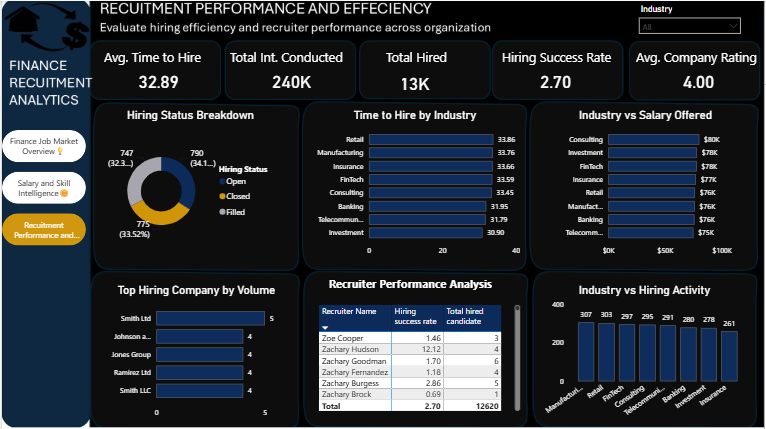

Layout of this report page (visuals, bound fields, positions):
{"tool":"powerbi","page":{"name":"Recuitment Performance and Effeciency🔎","canvas":[1280,720],"ordinal":2},"visuals":[{"type":"pageNavigator","box":[0,216.7,141.1,196.5],"z":0},{"type":"donutChart","title":"Hiring Status Breakdown","fields":{"Y":["All Measures.Total Job Postings"],"Category":["Finance Dataset.Hiring Status"]},"box":[166.3,179.7,300.7,257],"z":1000},{"type":"clusteredBarChart","title":"Time to Hire by Industry","fields":{"Y":["Avg(Finance Dataset.Time to Hire)"],"Category":["Finance Dataset.Industry"]},"box":[512.3,179.7,362.8,257],"z":2000},{"type":"clusteredBarChart","title":"Industry vs Salary Offered","fields":{"Category":["Finance Dataset.Industry"],"Y":["Finance Dataset.salary midpoint"]},"box":[930.6,179.7,300.7,257],"z":3000},{"type":"pivotTable","fields":{"Rows":["Finance Dataset.Recruiter Name"],"Values":["All Measures.Hiring success rate","All Measures.Total hired candidate"]},"box":[527.5,505.6,347.7,188.1],"z":4000},{"type":"clusteredBarChart","title":"Top Hiring Company by Volume","fields":{"Y":["All Measures.Total Job Postings"],"Category":["Finance Dataset.Company Name"]},"box":[166.3,473.7,320.8,235.2],"z":5000},{"type":"clusteredColumnChart","title":"Industry vs Hiring Activity","fields":{"Category":["Finance Dataset.Industry"],"Y":["All Measures.Total Job Postings"]},"box":[903.7,473.7,351.1,235.2],"z":6000},{"type":"textbox","box":[166.3,73.9,194.9,45.4],"z":7000},{"type":"textbox","box":[378,73.9,206.6,45.4],"z":8000},{"type":"textbox","box":[640,73.9,139.4,45.4],"z":9000},{"type":"textbox","box":[834.9,73.9,194.9,45.4],"z":10000},{"type":"textbox","box":[1059.9,73.9,220.1,45.4],"z":11000},{"type":"card","fields":{"Values":["All Measures.Avg. Time to hire"]},"box":[188.3,111.7,150,45],"z":12000},{"type":"card","fields":{"Values":["All Measures.Total interviews conducted"]},"box":[411.7,111.7,150,45],"z":13000},{"type":"card","fields":{"Values":["All Measures.Total hired candidate"]},"box":[618.3,118.3,150,38.3],"z":14000},{"type":"card","fields":{"Values":["All Measures.Hiring success rate"]},"box":[855,111.7,150,45],"z":15000},{"type":"card","fields":{"Values":["All Measures.Avg. Company rating"]},"box":[1101.7,111.7,136.7,45],"z":16000},{"type":"textbox","box":[545,456.7,310,48.3],"z":17000},{"type":"slicer","fields":{"Values":["Finance Dataset.Industry"]},"box":[1059.9,0,191.5,60.5],"z":18000}]}

Visuals, with their boxes in screenshot pixels (x1, y1, x2, y2), scaled from the page's 1280x720 canvas onto the 766x429 screenshot:
pageNavigator: [0, 129, 84, 246]
"Hiring Status Breakdown" donutChart: [100, 107, 279, 260]
"Time to Hire by Industry" clusteredBarChart: [307, 107, 524, 260]
"Industry vs Salary Offered" clusteredBarChart: [557, 107, 737, 260]
pivotTable - Finance Dataset.Recruiter Name x All Measures.Hiring success rate: [316, 301, 524, 413]
"Top Hiring Company by Volume" clusteredBarChart: [100, 282, 291, 422]
"Industry vs Hiring Activity" clusteredColumnChart: [541, 282, 751, 422]
textbox: [100, 44, 216, 71]
textbox: [226, 44, 350, 71]
textbox: [383, 44, 466, 71]
textbox: [500, 44, 616, 71]
textbox: [634, 44, 765, 71]
card - All Measures.Avg. Time to hire: [113, 67, 202, 93]
card - All Measures.Total interviews conducted: [246, 67, 336, 93]
card - All Measures.Total hired candidate: [370, 70, 460, 93]
card - All Measures.Hiring success rate: [512, 67, 601, 93]
card - All Measures.Avg. Company rating: [659, 67, 741, 93]
textbox: [326, 272, 512, 301]
slicer - Finance Dataset.Industry: [634, 0, 749, 36]
